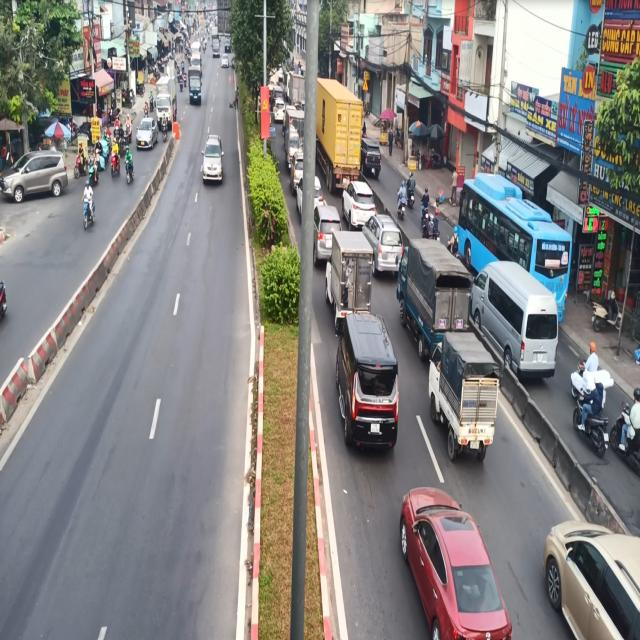car: (395, 471, 517, 640), (337, 312, 413, 459), (202, 124, 227, 192)
truck: (426, 330, 503, 471)
